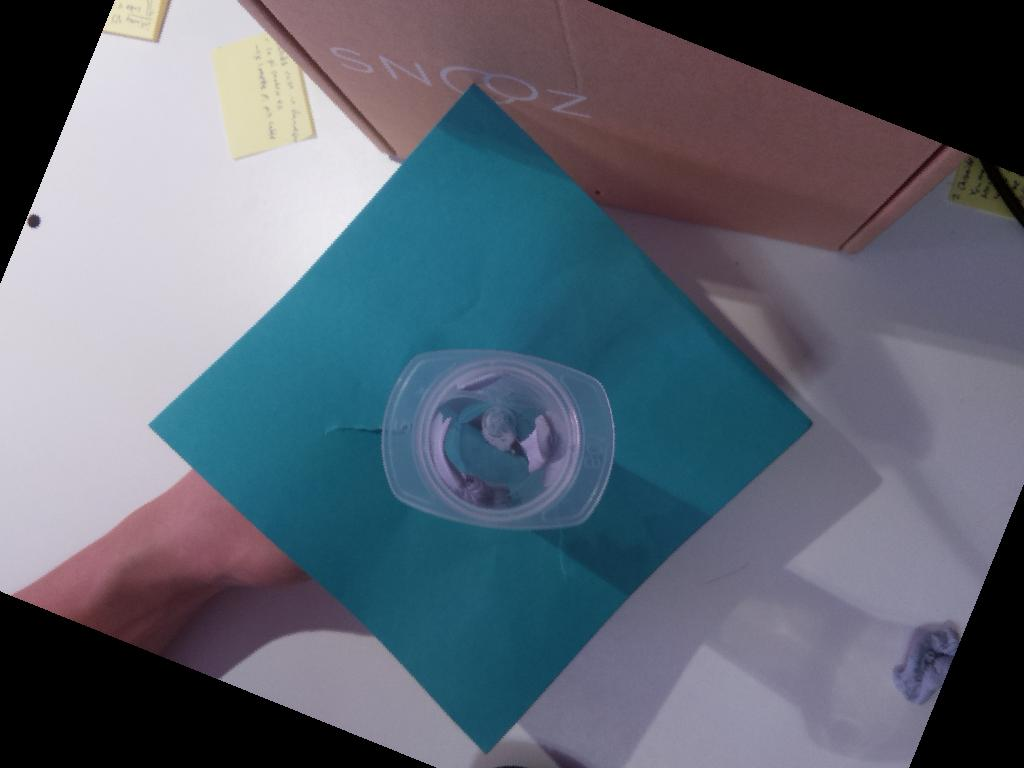dirty: (381, 348, 615, 527)
